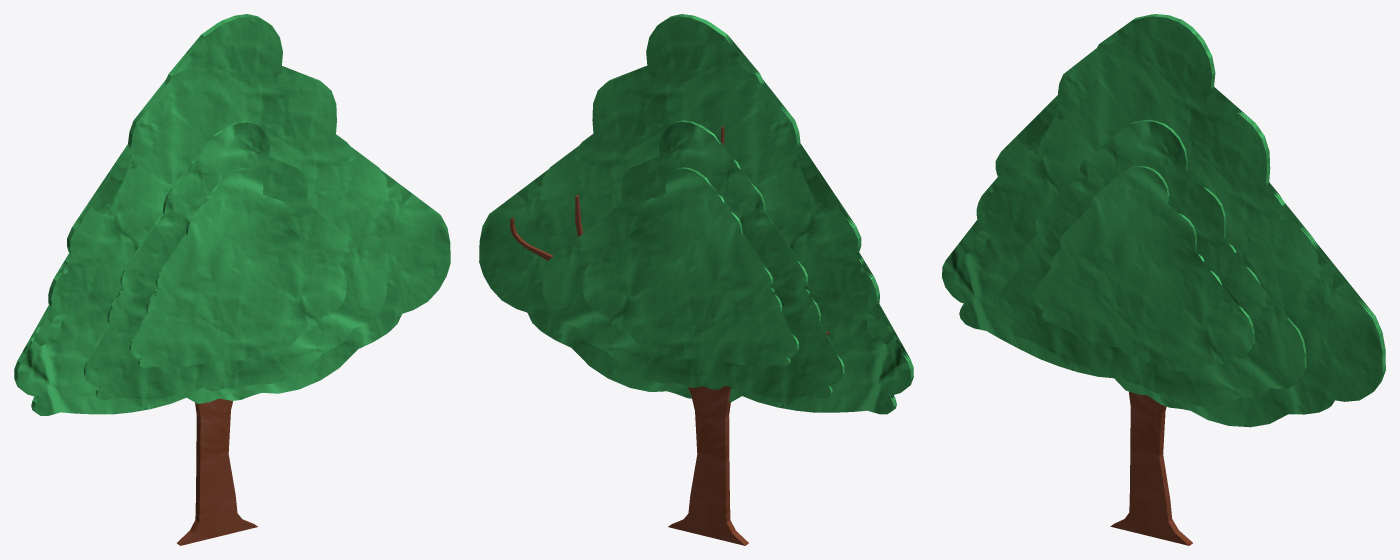
Rendered from arbre2_CI.fbx.
The picture shows the model from 3 angles, left to right: view 1: azimuth 30°, elevation 25°; view 2: azimuth 150°, elevation 25°; view 3: azimuth 330°, elevation 25°; orthographic projection. The views are drawn at different scales.
Parts seen in each view (by area): view 1: feuilles2_CI, tronc2_CI; view 2: feuilles2_CI, tronc2_CI; view 3: feuilles2_CI, tronc2_CI.
Part boxes in pixels (<box>): feuilles2_CI: <box>14,14,450,415</box>; tronc2_CI: <box>177,398,257,545</box>; feuilles2_CI: <box>479,14,913,414</box>; tronc2_CI: <box>510,126,829,545</box>; feuilles2_CI: <box>942,14,1385,427</box>; tronc2_CI: <box>1110,391,1192,545</box>.
Bounding box in the file's own units: 155 × 176 × 16.71.
